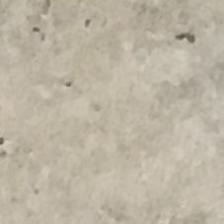Non_Crack: (26, 30, 224, 207)
